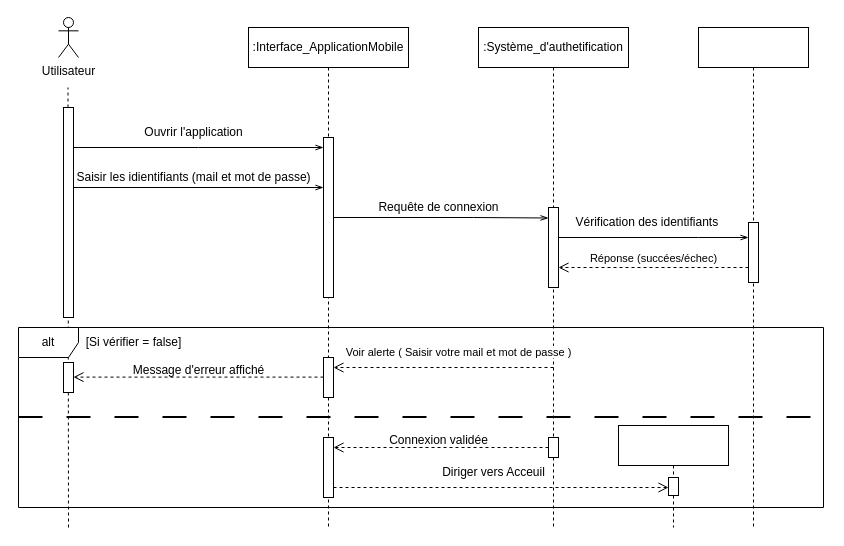
Image size: 844x546. Some labels were removed from this diagram. Each missing label, with the centre of its shape:
":Base_de_données" belongs at point 753,277.
":HomeFragment" belongs at point 673,476.
